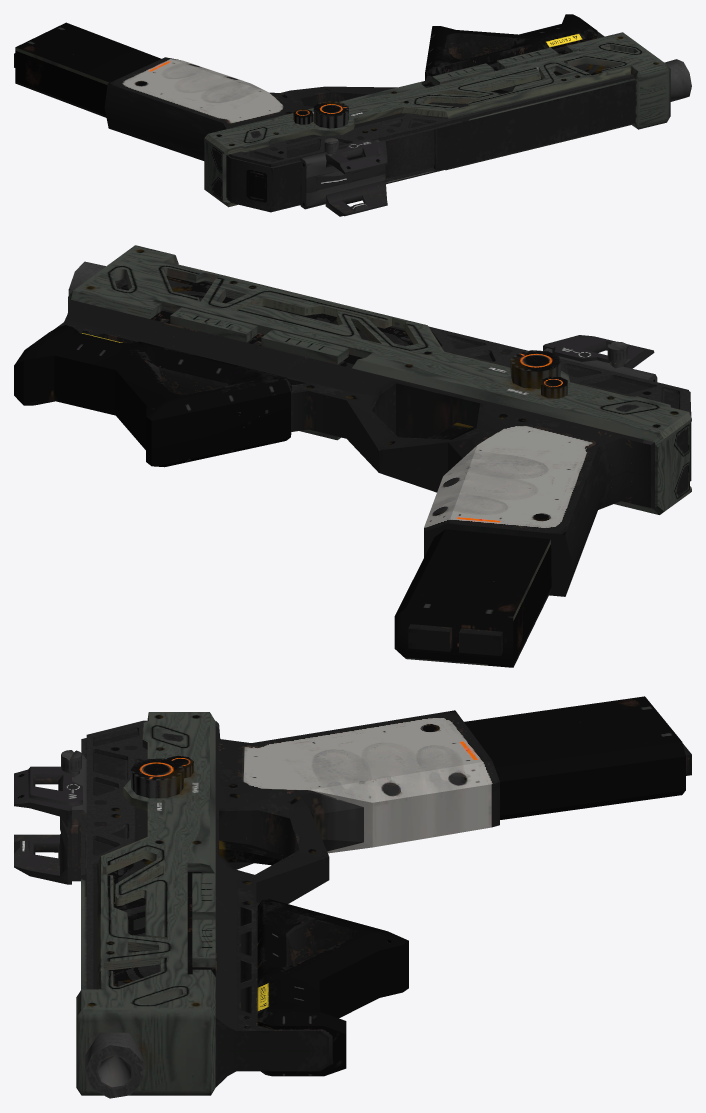
The model's file is w_autoppiistol_re45_LOD0.obj.glb.
3 renders of one model, top to bottom at view 1: azimuth 30°, elevation 25°; view 2: azimuth 150°, elevation 25°; view 3: azimuth 270°, elevation 25°, orthographic. The views are drawn at different scales.
Visible parts, largest first — view 1: Asset3DLoader.sceneRoot; view 2: Asset3DLoader.sceneRoot; view 3: Asset3DLoader.sceneRoot.
Part boxes in pixels (x1,y1,x2,y2): Asset3DLoader.sceneRoot: [14, 14, 691, 216]; Asset3DLoader.sceneRoot: [14, 245, 691, 667]; Asset3DLoader.sceneRoot: [14, 696, 691, 1098].
Size of the model in its own units: 12.2 by 1.96 by 10.03.
Materials: 1 (1 with a texture image).
